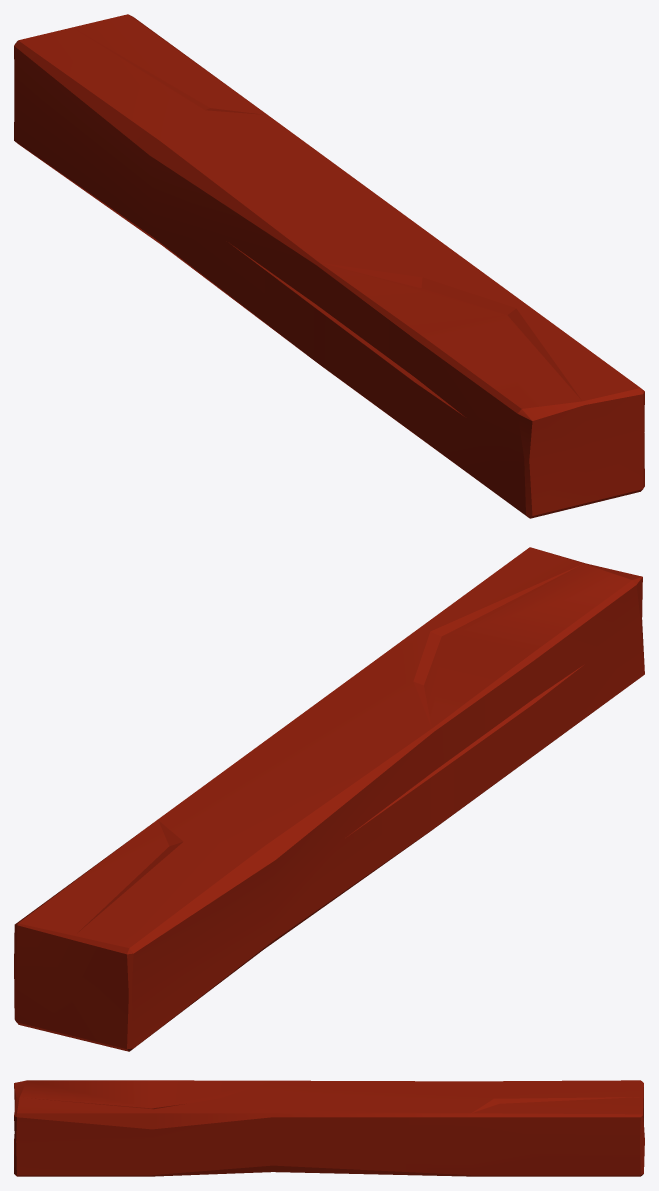
The model's file is SM_Ramp_02.fbx.
3 views of the same model, one above another, from view 1: azimuth 30°, elevation 25°; view 2: azimuth 150°, elevation 25°; view 3: azimuth 270°, elevation 25° (orthographic). The views are drawn at different scales.
Visible parts, largest first — view 1: Box017; view 2: Box017; view 3: Box017.
Boxes of the visible parts, bbox=[...] form: Box017: bbox=[14, 14, 644, 518]; Box017: bbox=[14, 547, 644, 1051]; Box017: bbox=[14, 1080, 644, 1176].
Size of the model in its own units: 518 by 423 by 3746.
